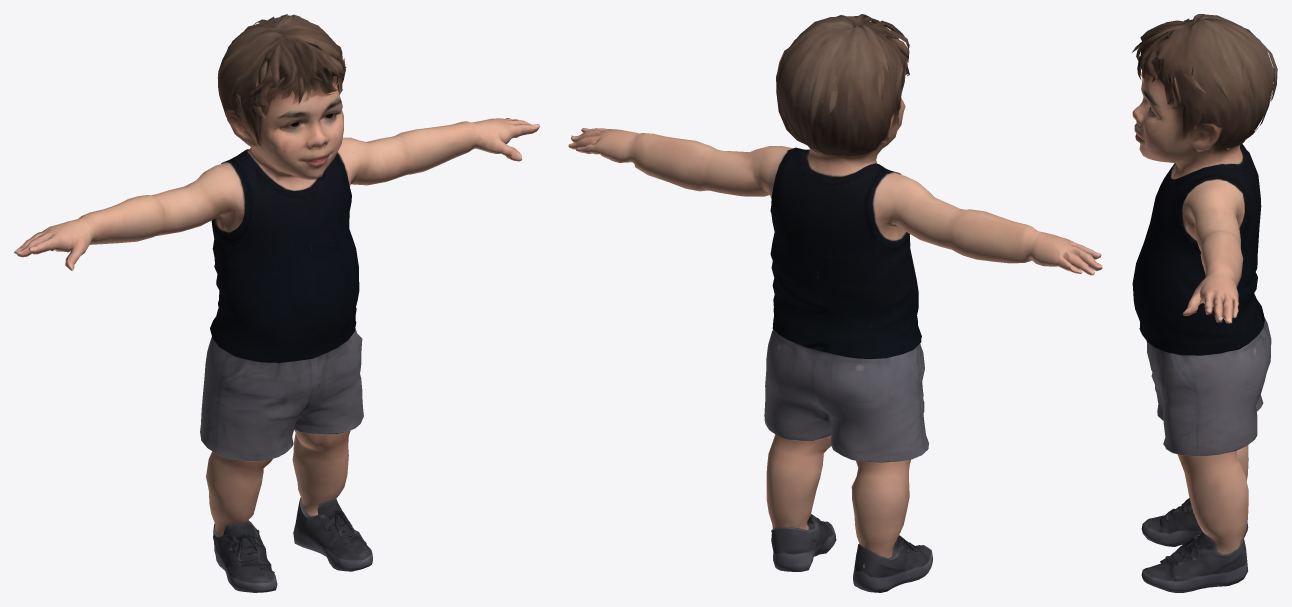
The model's file is pups.obj.
The picture shows the model from 3 angles, left to right: view 1: azimuth 30°, elevation 25°; view 2: azimuth 150°, elevation 25°; view 3: azimuth 270°, elevation 25°; orthographic projection.
Parts seen in each view (by area): view 1: mesh_0; view 2: mesh_0; view 3: mesh_0.
Boxes of the visible parts, left/top/right/bottom form: mesh_0: left=14, top=14, right=539, bottom=592; mesh_0: left=568, top=14, right=1102, bottom=592; mesh_0: left=1132, top=14, right=1277, bottom=592.
Bounding box in the file's own units: 953 × 948 × 231.
1 material, 1 textured.
